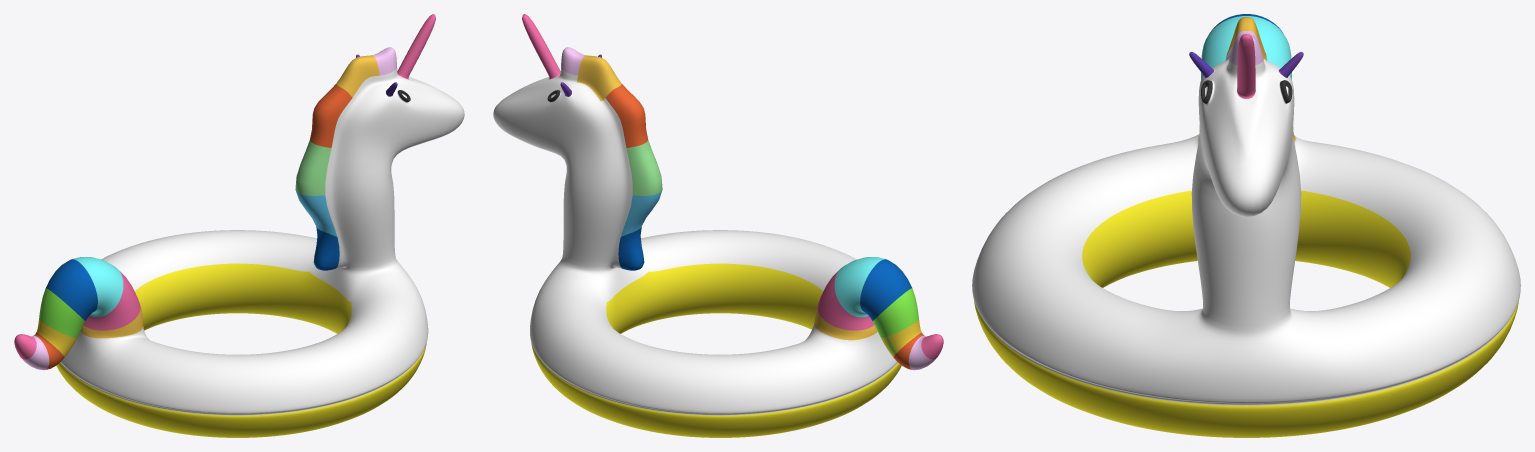
3 renders of one model, left to right at view 1: azimuth 30°, elevation 25°; view 2: azimuth 150°, elevation 25°; view 3: azimuth 270°, elevation 25°, orthographic. The views are drawn at different scales.
Visible parts, largest first — view 1: Torus; view 2: Torus; view 3: Torus.
Boxes of the visible parts, <box> form: Torus: <box>14,14,464,437</box>; Torus: <box>493,14,943,437</box>; Torus: <box>972,14,1520,437</box>.
Size of the model in its own units: 3.48 by 2.3 by 2.56.
